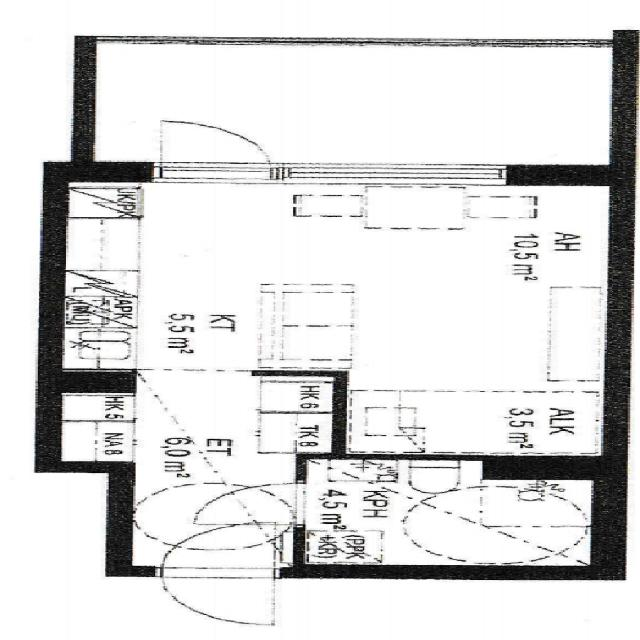door: (160, 113, 275, 183), (162, 569, 272, 625), (162, 522, 272, 578), (198, 484, 309, 525)
